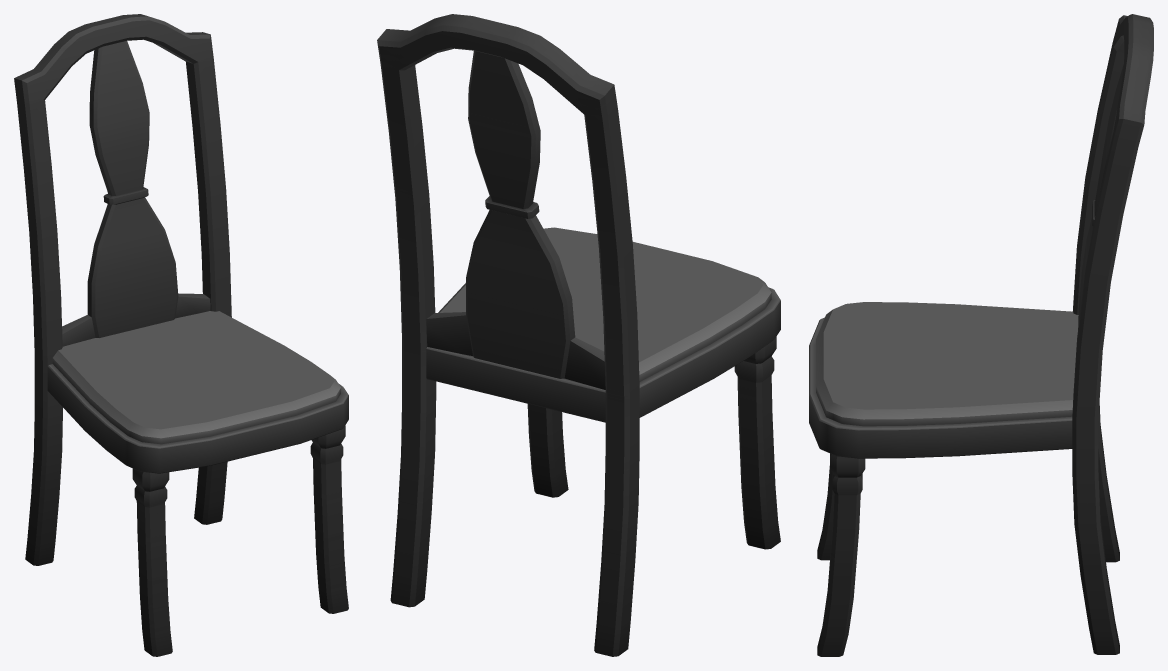
Rendered from chair_01.fbx.
The picture shows the model from 3 angles, left to right: view 1: azimuth 30°, elevation 25°; view 2: azimuth 150°, elevation 25°; view 3: azimuth 270°, elevation 25°; orthographic projection. The views are drawn at different scales.
Parts seen in each view (by area): view 1: chair_1; view 2: chair_1; view 3: chair_1.
Boxes of the visible parts, x1,y1,x2,y2 form: chair_1: (14, 14, 348, 656); chair_1: (377, 14, 780, 656); chair_1: (809, 14, 1153, 656).
Size of the model in its own units: 0.5538 by 1.23 by 0.6735.
